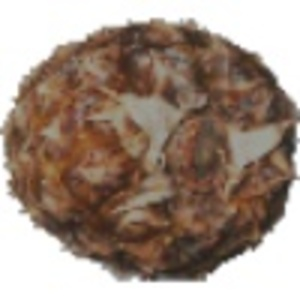abacaxi: (2, 28, 293, 274)
